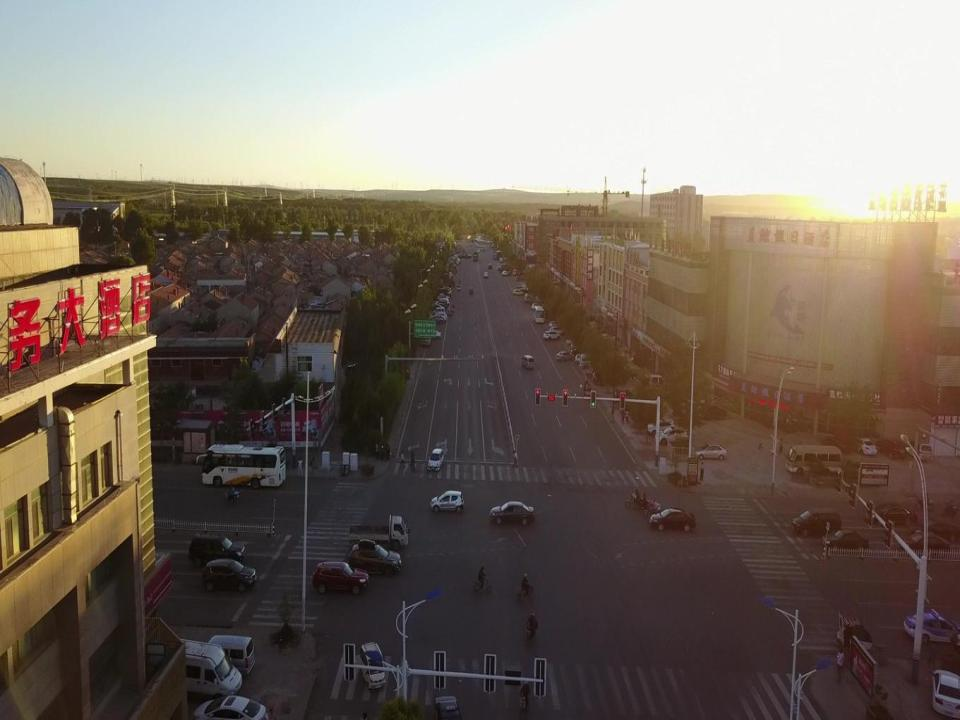bus: (195, 444, 286, 488), (784, 445, 843, 475), (534, 305, 544, 323)
car: (904, 609, 960, 646), (346, 539, 402, 576), (312, 562, 369, 596), (199, 559, 257, 592), (188, 532, 246, 564), (193, 695, 267, 720), (932, 669, 960, 719), (649, 507, 696, 534), (899, 532, 950, 555), (490, 501, 536, 525), (865, 505, 917, 526), (915, 520, 960, 542), (822, 531, 868, 549), (429, 490, 464, 512), (433, 695, 462, 720), (876, 435, 904, 460), (654, 426, 688, 445), (693, 443, 728, 461), (852, 437, 878, 456), (646, 420, 676, 436), (823, 436, 849, 454), (428, 449, 444, 471), (556, 351, 574, 361), (543, 331, 560, 341), (428, 330, 442, 340), (427, 316, 444, 324), (433, 312, 447, 320), (549, 328, 564, 334), (513, 289, 523, 295), (457, 284, 461, 291), (484, 272, 488, 278), (488, 265, 492, 269)
truck: (348, 514, 410, 550)
van: (172, 637, 242, 696), (207, 635, 255, 675), (792, 509, 841, 537), (908, 436, 932, 464), (521, 355, 534, 370), (422, 332, 431, 346)
